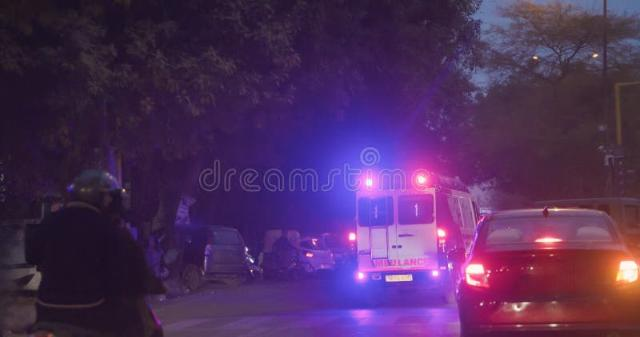ambulance: (341, 160, 484, 314)
